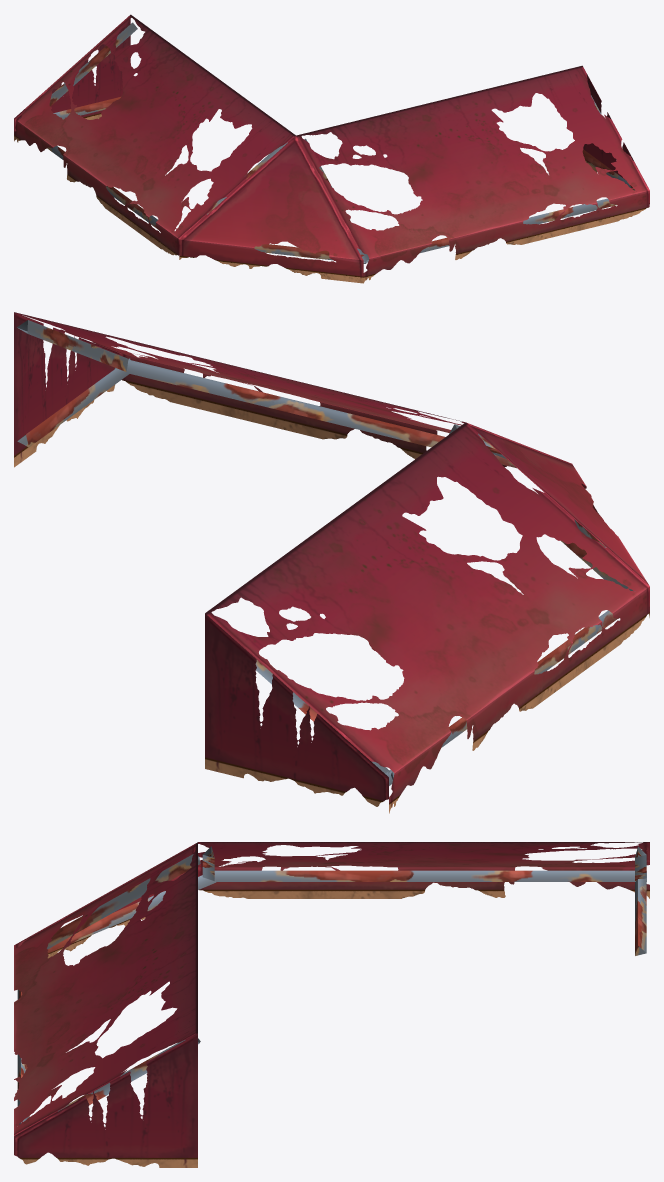
Rendered from awning01_corner.fbx.
3 views of the same model, one above another, from view 1: azimuth 30°, elevation 25°; view 2: azimuth 150°, elevation 25°; view 3: azimuth 270°, elevation 25° (orthographic). The views are drawn at different scales.
Parts seen in each view (by area): view 1: awning01_corner; view 2: awning01_corner; view 3: awning01_corner.
Part boxes in pixels (x1=…): awning01_corner: x1=14, y1=14, x2=649, y2=283; awning01_corner: x1=14, y1=312, x2=649, y2=813; awning01_corner: x1=14, y1=842, x2=649, y2=1167.
Bounding box in the file's own units: 449 × 105 × 449.
